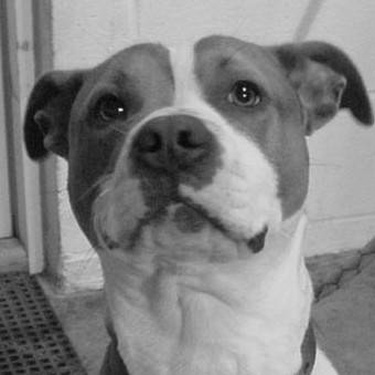dog: (19, 31, 372, 374)
